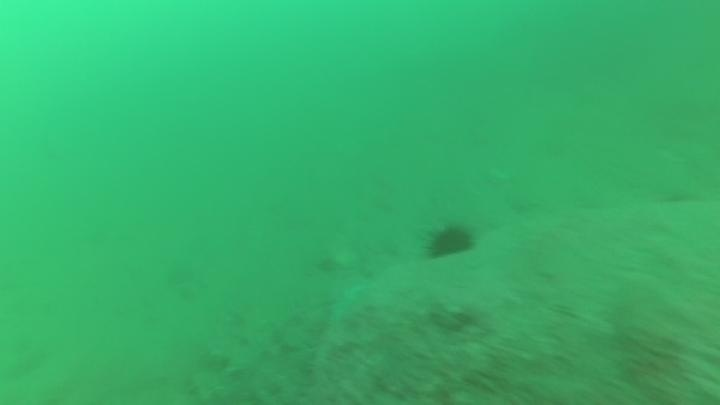echinus: (422, 220, 478, 262)
